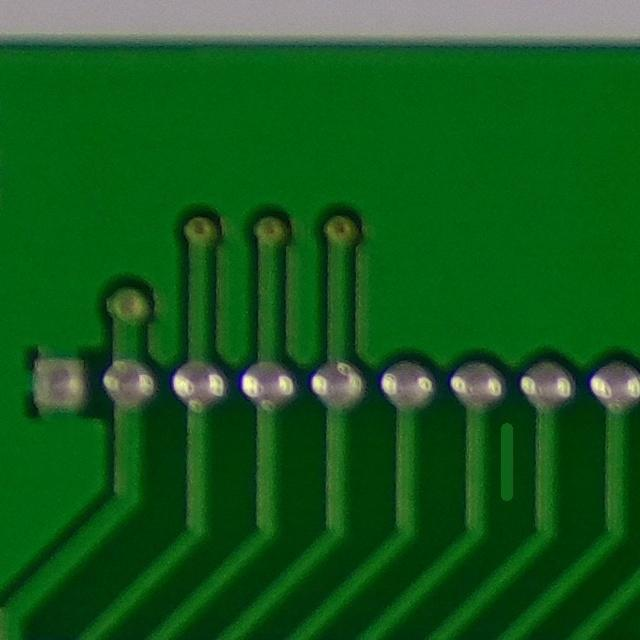spurious_copper: (478, 413, 532, 508)
